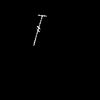treble_crochet: (34, 16, 42, 42)
